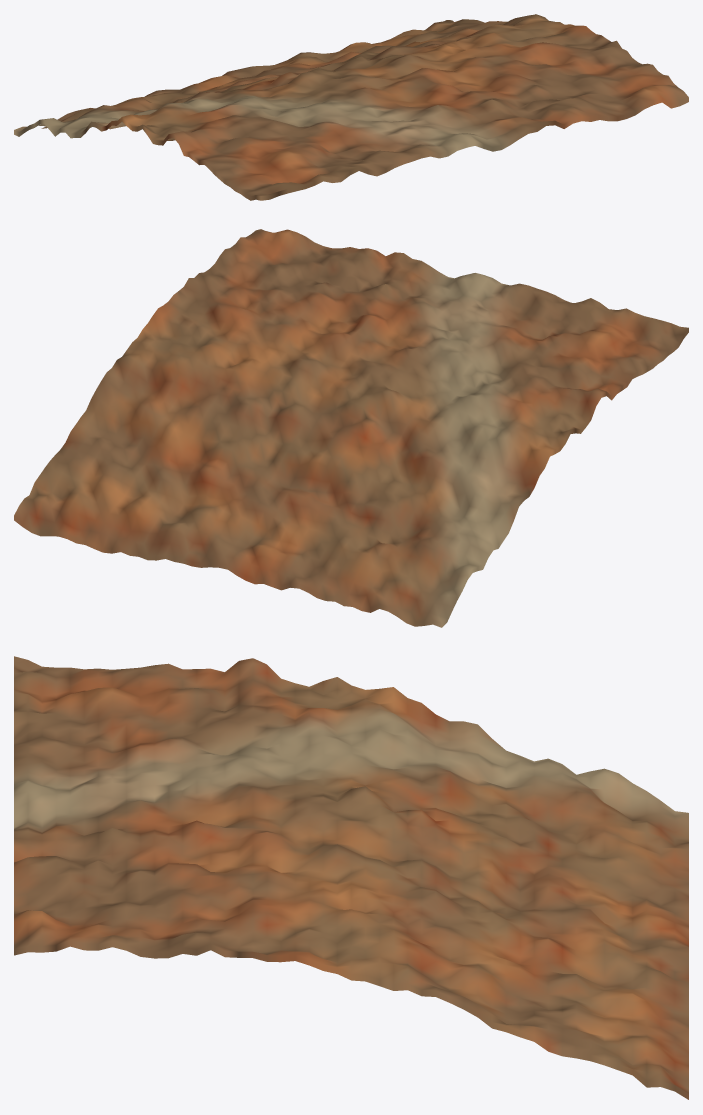
The model's file is terrain-135.glb.
3 views of the same model, one above another, from view 1: azimuth 30°, elevation 25°; view 2: azimuth 150°, elevation 25°; view 3: azimuth 270°, elevation 25° (orthographic). The views are drawn at different scales.
Parts seen in each view (by area): view 1: terrain-135; view 2: terrain-135; view 3: terrain-135.
Part boxes in pixels (bbox=[...]): terrain-135: bbox=[14, 14, 688, 200]; terrain-135: bbox=[14, 229, 688, 627]; terrain-135: bbox=[14, 656, 688, 1099].
Size of the model in its own units: 384 by 115 by 384.
